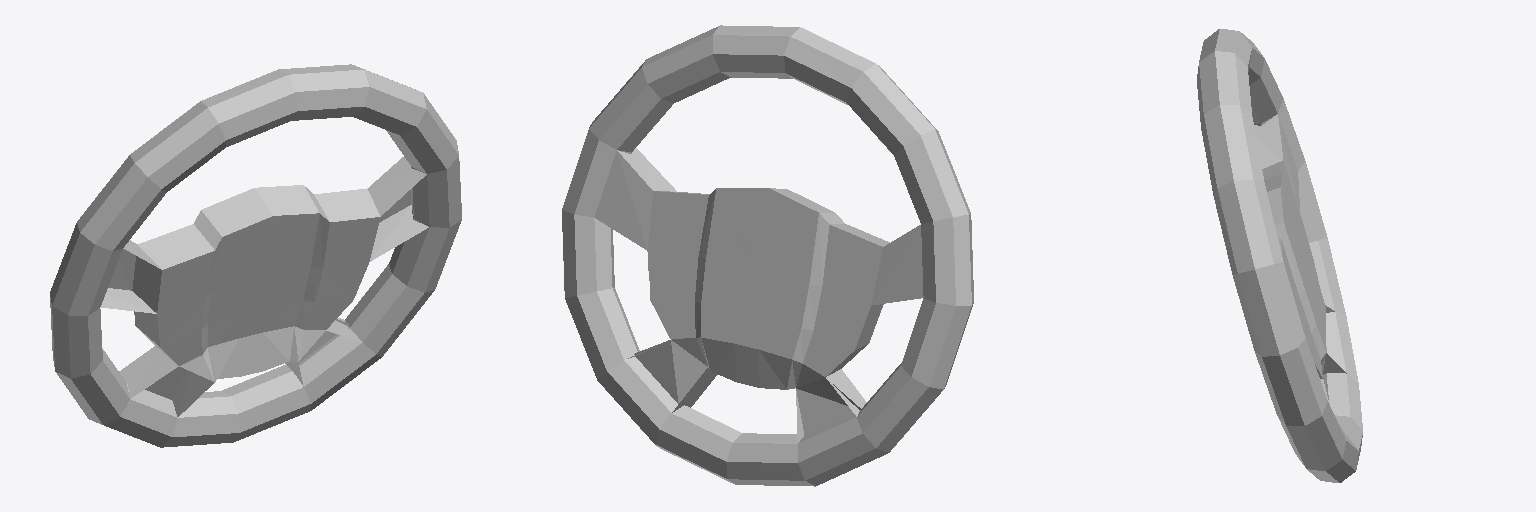
File: steering wheel.obj
3 views of the same model, side by side, from view 1: azimuth 30°, elevation 25°; view 2: azimuth 150°, elevation 25°; view 3: azimuth 270°, elevation 25° (orthographic).
Visible parts, largest first — view 1: lincoln_navigator; view 2: lincoln_navigator; view 3: lincoln_navigator.
Boxes of the visible parts, box(x1,y1,x2,y2) form: lincoln_navigator: box(50, 64, 461, 447); lincoln_navigator: box(562, 25, 973, 486); lincoln_navigator: box(1197, 29, 1362, 482).
Size of the model in its own units: 1.2 by 1.16 by 0.4253.